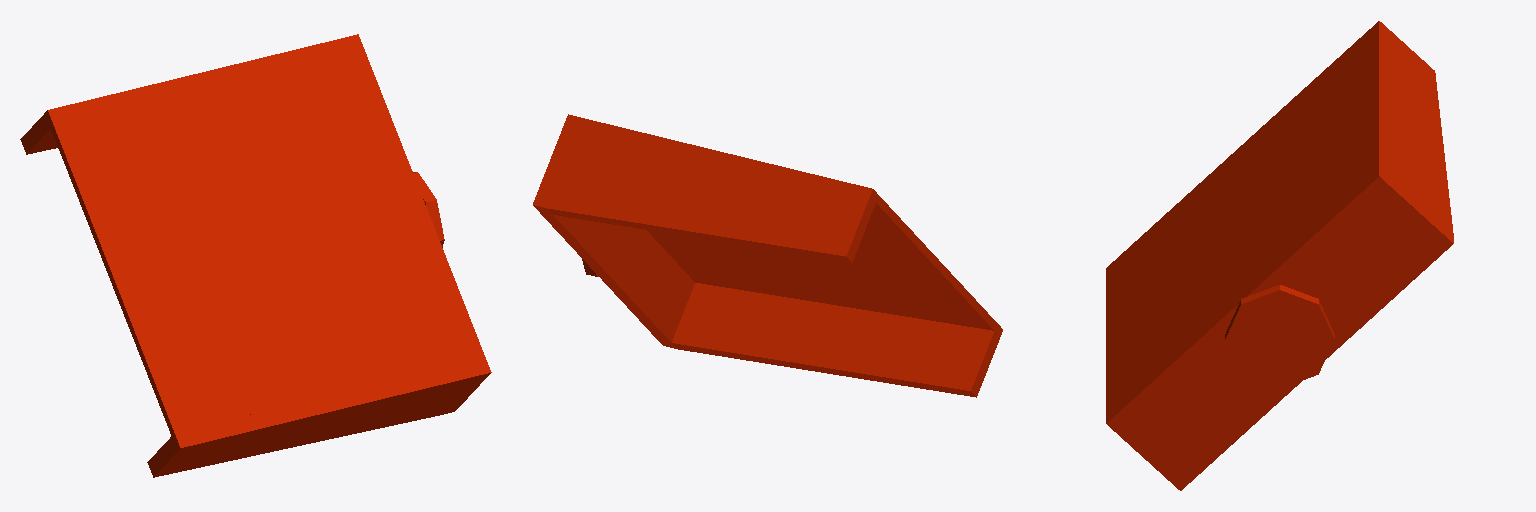
URDF robot description (panda):
<?xml version="1.0" encoding="utf-8"?>
<!-- =================================================================================== -->
<!-- |    This document was autogenerated by xacro from panda_arm_hand.urdf.xacro      | -->
<!-- |    EDITING THIS FILE BY HAND IS NOT RECOMMENDED                                 | -->
<!-- =================================================================================== -->
<robot name="panda" xmlns:xacro="http://www.ros.org/wiki/xacro">
  <link name="panda_link0">
    <visual>
      <geometry>
        <mesh filename="franka_description/meshes/visual/link0.dae"/>
      </geometry>
    </visual>
    <collision>
      <geometry>
        <mesh filename="franka_description/meshes/collision/link0.stl"/>
      </geometry>
    </collision>
  </link>
  <link name="panda_link1">
    <visual>
      <geometry>
        <mesh filename="franka_description/meshes/visual/link1.dae"/>
      </geometry>
    </visual>
    <collision>
      <geometry>
        <mesh filename="franka_description/meshes/collision/link1.stl"/>
      </geometry>
    </collision>
  </link>
  <joint name="panda_joint1" type="revolute">
    <safety_controller k_position="100.0" k_velocity="40.0" soft_lower_limit="-2.8973" soft_upper_limit="2.8973"/>
    <origin rpy="0 0 0" xyz="0 0 0.333"/>
    <parent link="panda_link0"/>
    <child link="panda_link1"/>
    <axis xyz="0 0 1"/>
    <limit effort="87" lower="-2.8973" upper="2.8973" velocity="2.1750"/>
  </joint>
  <link name="panda_link2">
    <visual>
      <geometry>
        <mesh filename="franka_description/meshes/visual/link2.dae"/>
      </geometry>
    </visual>
    <collision>
      <geometry>
        <mesh filename="franka_description/meshes/collision/link2.stl"/>
      </geometry>
    </collision>
  </link>
  <joint name="panda_joint2" type="revolute">
    <safety_controller k_position="100.0" k_velocity="40.0" soft_lower_limit="-1.7628" soft_upper_limit="1.7628"/>
    <origin rpy="-1.57079632679 0 0" xyz="0 0 0"/>
    <parent link="panda_link1"/>
    <child link="panda_link2"/>
    <axis xyz="0 0 1"/>
    <limit effort="87" lower="-1.7628" upper="1.7628" velocity="2.1750"/>
  </joint>
  <link name="panda_link3">
    <visual>
      <geometry>
        <mesh filename="franka_description/meshes/visual/link3.dae"/>
      </geometry>
    </visual>
    <collision>
      <geometry>
        <mesh filename="franka_description/meshes/collision/link3.stl"/>
      </geometry>
    </collision>
  </link>
  <joint name="panda_joint3" type="revolute">
    <safety_controller k_position="100.0" k_velocity="40.0" soft_lower_limit="-2.8973" soft_upper_limit="2.8973"/>
    <origin rpy="1.57079632679 0 0" xyz="0 -0.316 0"/>
    <parent link="panda_link2"/>
    <child link="panda_link3"/>
    <axis xyz="0 0 1"/>
    <limit effort="87" lower="-2.8973" upper="2.8973" velocity="2.1750"/>
  </joint>
  <link name="panda_link4">
    <visual>
      <geometry>
        <mesh filename="franka_description/meshes/visual/link4.dae"/>
      </geometry>
    </visual>
    <collision>
      <geometry>
        <mesh filename="franka_description/meshes/collision/link4.stl"/>
      </geometry>
    </collision>
  </link>
  <joint name="panda_joint4" type="revolute">
    <safety_controller k_position="100.0" k_velocity="40.0" soft_lower_limit="-3.0718" soft_upper_limit="-0.0698"/>
    <origin rpy="1.57079632679 0 0" xyz="0.0825 0 0"/>
    <parent link="panda_link3"/>
    <child link="panda_link4"/>
    <axis xyz="0 0 1"/>
    <limit effort="87" lower="-3.0718" upper="-0.0698" velocity="2.1750"/>
  </joint>
  <link name="panda_link5">
    <visual>
      <geometry>
        <mesh filename="franka_description/meshes/visual/link5.dae"/>
      </geometry>
    </visual>
    <collision>
      <geometry>
        <mesh filename="franka_description/meshes/collision/link5.stl"/>
      </geometry>
    </collision>
  </link>
  <joint name="panda_joint5" type="revolute">
    <safety_controller k_position="100.0" k_velocity="40.0" soft_lower_limit="-2.8973" soft_upper_limit="2.8973"/>
    <origin rpy="-1.57079632679 0 0" xyz="-0.0825 0.384 0"/>
    <parent link="panda_link4"/>
    <child link="panda_link5"/>
    <axis xyz="0 0 1"/>
    <limit effort="12" lower="-2.8973" upper="2.8973" velocity="2.6100"/>
  </joint>
  <link name="panda_link6">
    <visual>
      <geometry>
        <mesh filename="franka_description/meshes/visual/link6.dae"/>
      </geometry>
    </visual>
    <collision>
      <geometry>
        <mesh filename="franka_description/meshes/collision/link6.stl"/>
      </geometry>
    </collision>
  </link>
  <joint name="panda_joint6" type="revolute">
    <safety_controller k_position="100.0" k_velocity="40.0" soft_lower_limit="-0.0175" soft_upper_limit="3.7525"/>
    <origin rpy="1.57079632679 0 0" xyz="0 0 0"/>
    <parent link="panda_link5"/>
    <child link="panda_link6"/>
    <axis xyz="0 0 1"/>
    <limit effort="12" lower="-0.0175" upper="3.7525" velocity="2.6100"/>
  </joint>
  <link name="panda_link7">
    <visual>
      <geometry>
        <mesh filename="franka_description/meshes/visual/link7.dae"/>
      </geometry>
    </visual>
    <collision>
      <geometry>
        <mesh filename="franka_description/meshes/collision/link7.stl"/>
      </geometry>
    </collision>
  </link>
  <joint name="panda_joint7" type="continuous">
    <safety_controller k_position="100.0" k_velocity="40.0" soft_lower_limit="-2.8973" soft_upper_limit="2.8973"/>
    <origin rpy="1.57079632679 0 0" xyz="0.088 0 0"/>
    <parent link="panda_link6"/>
    <child link="panda_link7"/>
    <axis xyz="0 0 1"/>
    <limit effort="12" lower="-2.8973" upper="2.8973" velocity="2.6100"/>
  </joint>
  <link name="panda_link8"/>
  <joint name="panda_joint8" type="fixed">
    <origin rpy="0 0 0" xyz="0 0 0.107"/>
    <parent link="panda_link7"/>
    <child link="panda_link8"/>
    <axis xyz="0 0 0"/>
  </joint>
  <joint name="panda_hand_joint" type="fixed">
    <parent link="panda_link8"/>
    <child link="panda_hand"/>
    <origin rpy="0 0 -0.785398163397" xyz="0 0 0"/>
  </joint>
  <link name="panda_hand">
    <visual>
      <geometry>
        <mesh filename="spade/spade.dae"/>
      </geometry>
    </visual>
    <collision>
      <geometry>
        <mesh filename="spade/spade_bottom.stl"/>
      </geometry>
    </collision>
    <collision>
      <geometry>
        <mesh filename="spade/spade_left.stl"/>
      </geometry>
    </collision>
    <collision>
      <geometry>
        <mesh filename="spade/spade_right.stl"/>
      </geometry>
    </collision>
    <collision>
      <geometry>
        <mesh filename="spade/spade_back.stl"/>
      </geometry>
    </collision>
  </link>
</robot>

--- Facts derived from the render (not from the file) ---
The picture shows the robot from 3 angles, left to right: view 1: azimuth 30°, elevation 25°; view 2: azimuth 150°, elevation 25°; view 3: azimuth 270°, elevation 25°; orthographic projection.
Model panda with 10 links and 9 joints (6 revolute, 1 continuous, 2 fixed), rooted at panda_link0, posed all joints at 0 but 1 set to mid-range because 0 is outside their limits (panda_joint4 = -1.57).
Visible links, largest first — view 1: panda_hand; view 2: panda_hand; view 3: panda_hand.
Boxes of the visible links, x1=… form: panda_hand: x1=20, y1=34, x2=491, y2=477; panda_hand: x1=533, y1=114, x2=1002, y2=397; panda_hand: x1=1106, y1=21, x2=1453, y2=490.
Bounding box of the posed robot: 0.2176 × 0.198 × 0.198 m (x, y, z).
1 mesh visuals loaded from 9 distinct referenced files (1 Collada DAE); not drawn: 8 (reference not matched to a file when rendering).